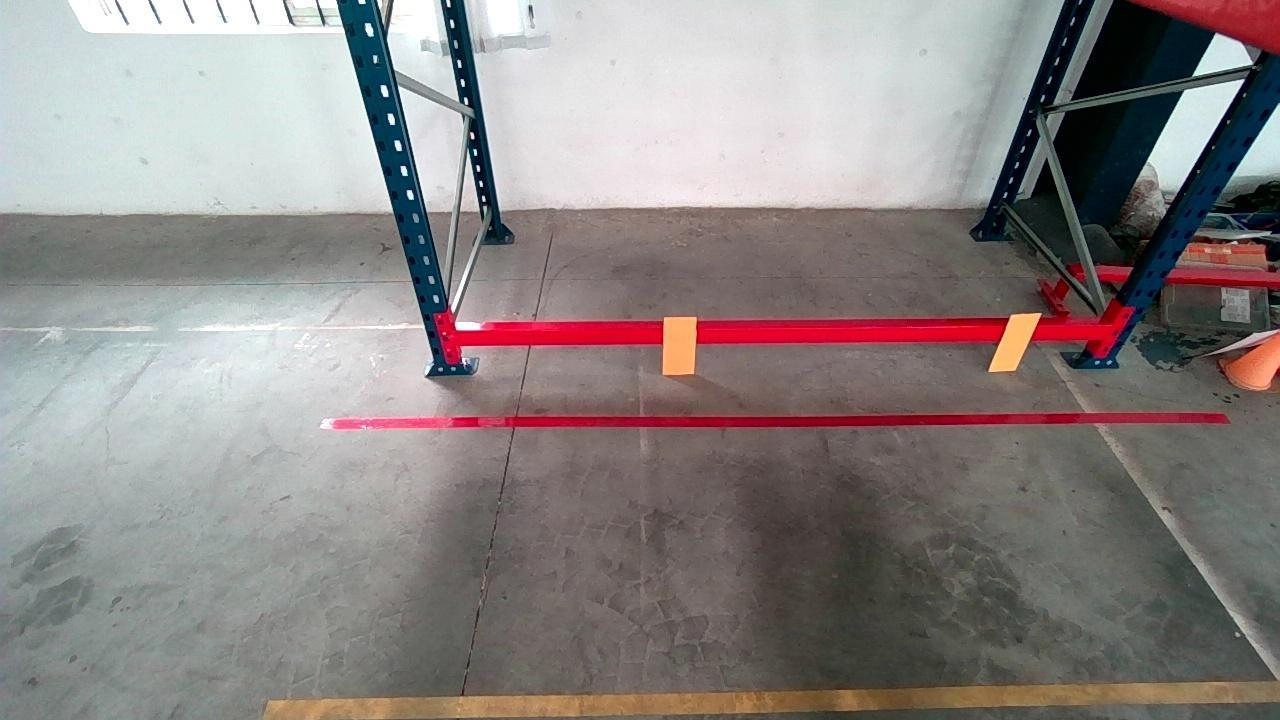h_rack: (456, 324, 1115, 344)
orange_strip: (989, 311, 1044, 370), (663, 314, 697, 374)
red_line: (317, 410, 1228, 431)
yellow_line: (274, 673, 1280, 720)
